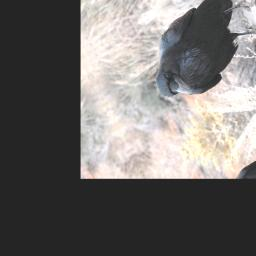Crow: (129, 0, 256, 115)
